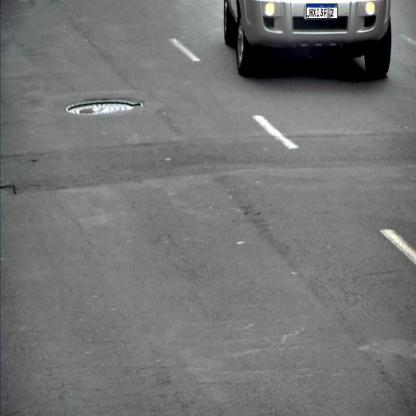PlacaM: (306, 3, 338, 19)
